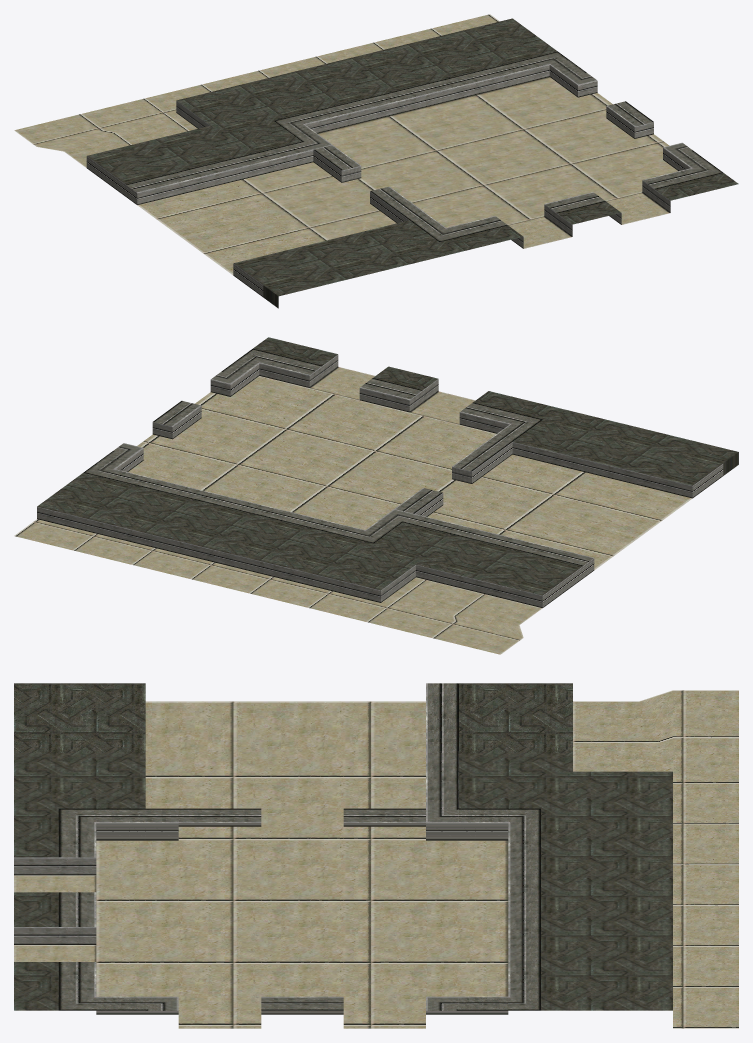
The model's file is DWARF_PALACE_WATER_ROOM_FLOORB.fbx.
The picture shows the model from 3 angles, top to bottom: view 1: azimuth 30°, elevation 25°; view 2: azimuth 150°, elevation 25°; view 3: azimuth 270°, elevation 25°; orthographic projection. The views are drawn at different scales.
Parts seen in each view (by area): view 1: DWARF_PALACE_WATER_ROOM_FLOORB; view 2: DWARF_PALACE_WATER_ROOM_FLOORB; view 3: DWARF_PALACE_WATER_ROOM_FLOORB.
Part boxes in pixels (left/top/right/bottom): DWARF_PALACE_WATER_ROOM_FLOORB: left=14, top=14, right=738, bottom=308; DWARF_PALACE_WATER_ROOM_FLOORB: left=14, top=337, right=738, bottom=654; DWARF_PALACE_WATER_ROOM_FLOORB: left=14, top=683, right=738, bottom=1028.
Bounding box in the file's own units: 242879 × 6024 × 219977.
6 materials, 6 textured.
